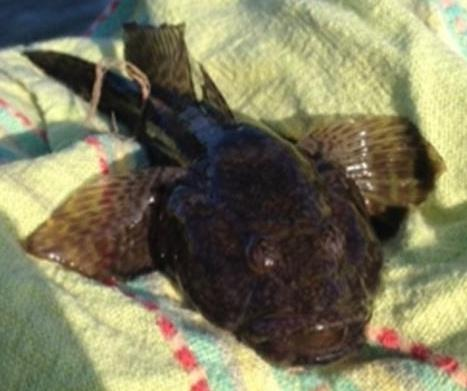Goby: (15, 29, 435, 367)
